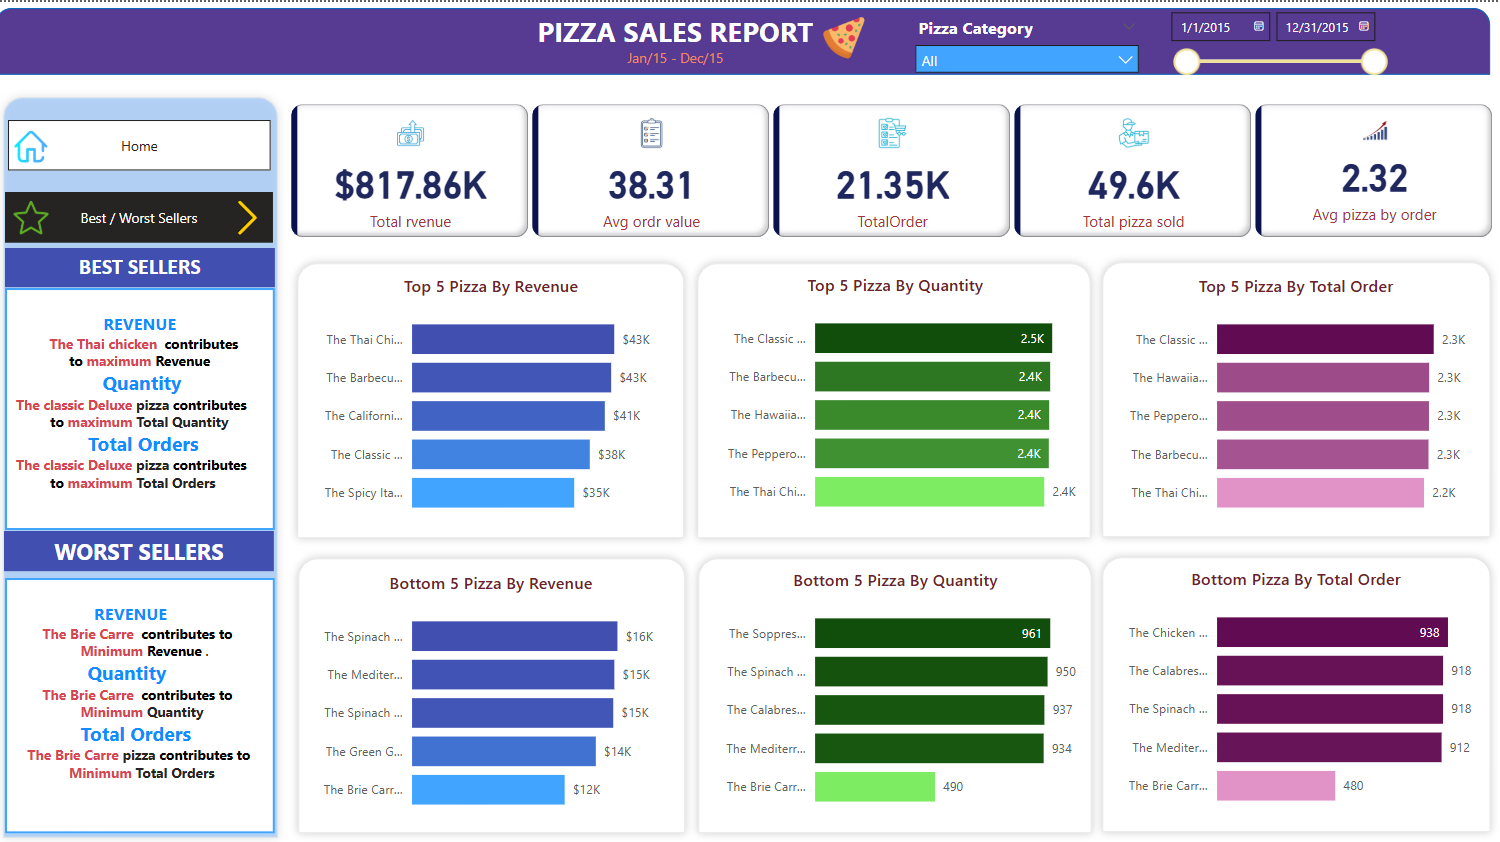

The page's visual inventory and layout, read from the dashboard file:
{"tool":"powerbi","page":{"name":"Best / Worst Sellers","canvas":[1500,820],"ordinal":1},"visuals":[{"type":"textbox","box":[454.2,0,307.6,52.4],"z":0},{"type":"cardVisual","fields":{"Data":["measurs.Total rvenue","measurs.Avg ordr value","measurs.TotalOrder","measurs.Total pizza sold","measurs.Avg pizza by order"]},"box":[283,94.3,1177.9,139.6],"z":1000},{"type":"shape","box":[0,5.5,1451.6,64.8],"z":2000},{"type":"textbox","box":[512.2,4.7,295.9,52.3],"z":3000},{"type":"textbox","box":[609.1,39.8,116.3,35.9],"z":4000},{"type":"image","box":[795.2,8.4,57.5,52.1],"z":5000},{"type":"shape","box":[0,84.9,282.6,735],"z":13000},{"type":"textbox","box":[9.4,238.9,261.6,38.3],"z":17000},{"type":"textbox","box":[9.4,277.2,261.6,235],"z":18000},{"type":"textbox","box":[10,558.8,261.9,247.6],"z":19000},{"type":"textbox","box":[8.6,513.8,261.9,38.5],"z":20000},{"type":"slicer","fields":{"Values":["pizza_sales.pizza_category"]},"box":[883.9,8.6,236.6,60.1],"z":21000},{"type":"slicer","fields":{"Values":["pizza_sales.order_date"]},"box":[1128.8,0,231.6,75.9],"z":22000},{"type":"pageNavigator","box":[12.3,114.3,255.4,49.8],"z":23000},{"type":"pageNavigator","box":[10,184,260.7,49.8],"z":24000},{"type":"image","box":[194,187.1,101.2,44.5],"z":24001},{"type":"image","box":[0,187.1,70.6,44.5],"z":24002},{"type":"image","box":[3.8,119.6,62.9,42.2],"z":24003},{"type":"shape","box":[1066.6,245.1,393,283],"z":24005},{"type":"shape","box":[674.1,245.6,398,283],"z":24006},{"type":"shape","box":[285.3,245.6,391.9,283],"z":24007},{"type":"shape","box":[1067.4,531.2,393,283],"z":24008},{"type":"shape","box":[674.9,531.7,398,283],"z":24009},{"type":"shape","box":[286.1,531.7,391.9,283],"z":24010},{"type":"clusteredBarChart","title":"Top 5 Pizza By Revenue","fields":{"Category":["pizza_sales.pizza_name"],"Y":["measurs.Total rvenue"]},"box":[302.9,263.8,357.4,247.7],"z":24011},{"type":"clusteredBarChart","title":"Bottom 5 Pizza By Revenue","fields":{"Category":["pizza_sales.pizza_name"],"Y":["measurs.Total rvenue"]},"box":[302.9,552.1,357.4,247.7],"z":24013},{"type":"clusteredBarChart","title":"Top 5 Pizza By Total Order","fields":{"Category":["pizza_sales.pizza_name"],"Y":["measurs.TotalOrder"]},"box":[1084.4,263.8,357.4,247.7],"z":24014},{"type":"clusteredBarChart","title":"Top 5 Pizza By Quantity","fields":{"Category":["pizza_sales.pizza_name"],"Y":["Sum(pizza_sales.quantity)"]},"box":[693.3,263,362,247.7],"z":24015},{"type":"clusteredBarChart","title":"Bottom 5 Pizza By Quantity","fields":{"Category":["pizza_sales.pizza_name"],"Y":["Sum(pizza_sales.quantity)"]},"box":[693.3,549.1,362,247.7],"z":24019},{"type":"clusteredBarChart","title":"Bottom Pizza By Total Order","fields":{"Category":["pizza_sales.pizza_name"],"Y":["measurs.TotalOrder"]},"box":[1084.4,548.3,357.4,247.7],"z":24020}]}

Visuals, with their boxes in screenshot pixels (x1, y1, x2, y2), scaled from the page's 1500x820 canvas onto the 1500x842 screenshot:
textbox: rect(454, 0, 762, 54)
cardVisual - measurs.Total rvenue x measurs.Avg ordr value: rect(283, 97, 1461, 240)
shape: rect(0, 6, 1452, 72)
textbox: rect(512, 5, 808, 59)
textbox: rect(609, 41, 725, 78)
image: rect(795, 9, 853, 62)
shape: rect(0, 87, 283, 841)
textbox: rect(9, 245, 271, 285)
textbox: rect(9, 285, 271, 526)
textbox: rect(10, 574, 272, 828)
textbox: rect(9, 528, 270, 567)
slicer - pizza_sales.pizza_category: rect(884, 9, 1120, 71)
slicer - pizza_sales.order_date: rect(1129, 0, 1360, 78)
pageNavigator: rect(12, 117, 268, 169)
pageNavigator: rect(10, 189, 271, 240)
image: rect(194, 192, 295, 238)
image: rect(0, 192, 71, 238)
image: rect(4, 123, 67, 166)
shape: rect(1067, 252, 1460, 542)
shape: rect(674, 252, 1072, 543)
shape: rect(285, 252, 677, 543)
shape: rect(1067, 545, 1460, 836)
shape: rect(675, 546, 1073, 837)
shape: rect(286, 546, 678, 837)
"Top 5 Pizza By Revenue" clusteredBarChart: rect(303, 271, 660, 525)
"Bottom 5 Pizza By Revenue" clusteredBarChart: rect(303, 567, 660, 821)
"Top 5 Pizza By Total Order" clusteredBarChart: rect(1084, 271, 1442, 525)
"Top 5 Pizza By Quantity" clusteredBarChart: rect(693, 270, 1055, 524)
"Bottom 5 Pizza By Quantity" clusteredBarChart: rect(693, 564, 1055, 818)
"Bottom Pizza By Total Order" clusteredBarChart: rect(1084, 563, 1442, 817)
